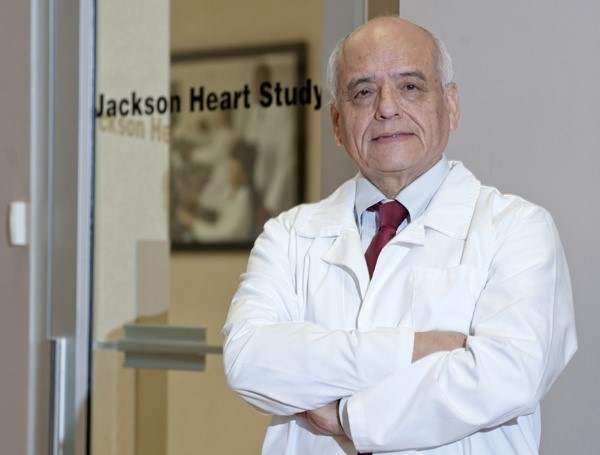face_no_mask: (327, 17, 457, 171)
